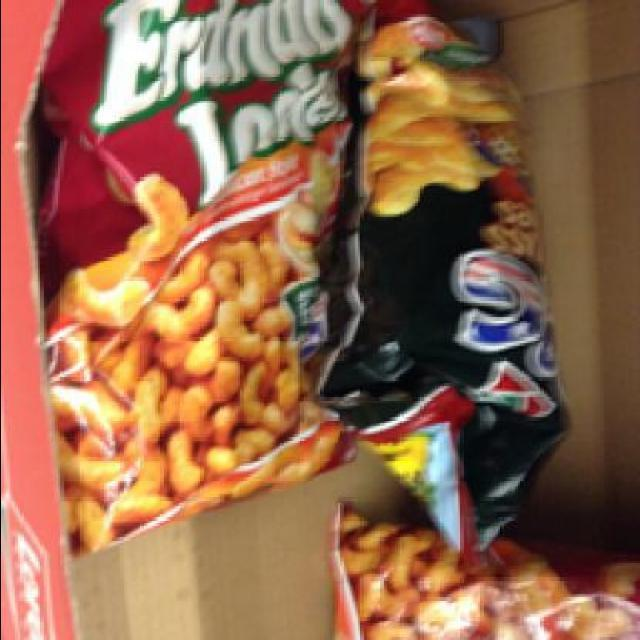Chips: (51, 1, 367, 557), (330, 9, 574, 551)
